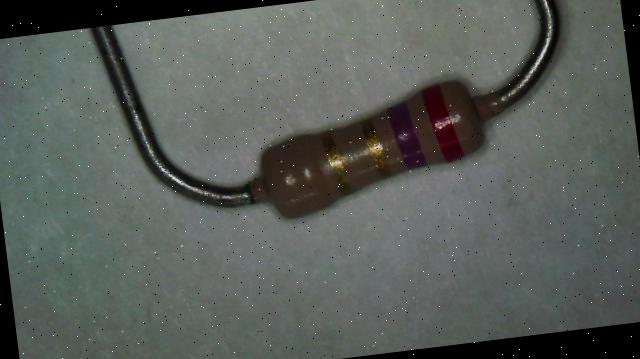gold: (361, 116, 391, 180), (322, 130, 351, 196)
red: (422, 82, 463, 163)
resistor: (233, 46, 522, 249)
violet: (387, 100, 426, 170)
